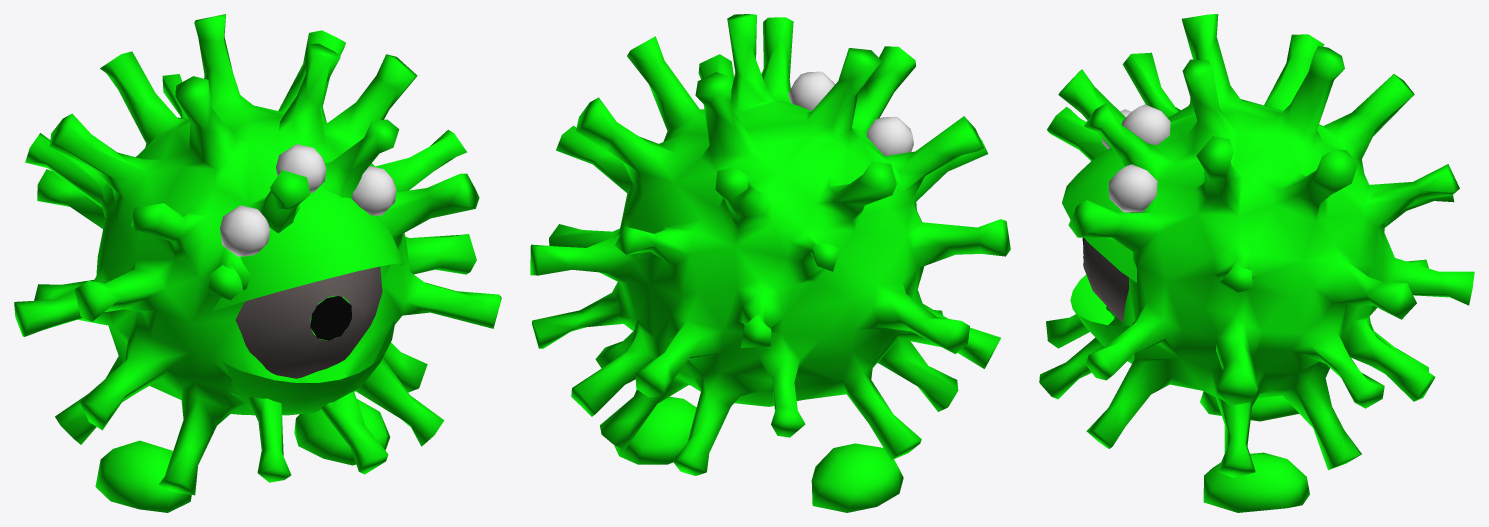
File: Virus_new.fbx
3 views of the same model, side by side, from view 1: azimuth 30°, elevation 25°; view 2: azimuth 150°, elevation 25°; view 3: azimuth 270°, elevation 25° (orthographic). The views are drawn at different scales.
Parts seen in each view (by area): view 1: Icosphere, Sphere.001, Cornea, feet, Sphere, Cornea.004, Cornea.001, Cornea.003, Cornea.002; view 2: Icosphere, feet, Cornea.004, Cornea.003; view 3: Icosphere, feet, Sphere.001, Cornea, Sphere, Cornea.001, Cornea.003.
Boxes of the visible parts, left/top/right/bottom form: Icosphere: left=14, top=14, right=501, bottom=495; Sphere.001: left=212, top=186, right=404, bottom=311; Cornea: left=235, top=266, right=382, bottom=378; feet: left=95, top=399, right=390, bottom=512; Sphere: left=223, top=319, right=394, bottom=415; Cornea.004: left=220, top=205, right=270, bottom=256; Cornea.001: left=352, top=166, right=396, bottom=215; Cornea.003: left=276, top=144, right=326, bottom=193; Cornea.002: left=310, top=296, right=351, bottom=340; Icosphere: left=530, top=14, right=1010, bottom=475; feet: left=614, top=396, right=903, bottom=512; Cornea.004: left=866, top=116, right=913, bottom=155; Cornea.003: left=788, top=71, right=835, bottom=110; Icosphere: left=1039, top=14, right=1474, bottom=477; feet: left=1200, top=391, right=1309, bottom=512; Sphere.001: left=1062, top=148, right=1136, bottom=282; Cornea: left=1083, top=237, right=1128, bottom=322; Sphere: left=1070, top=274, right=1132, bottom=363; Cornea.001: left=1108, top=164, right=1157, bottom=212; Cornea.003: left=1121, top=104, right=1170, bottom=145.
Bounding box in the file's own units: 214 × 196 × 204.
